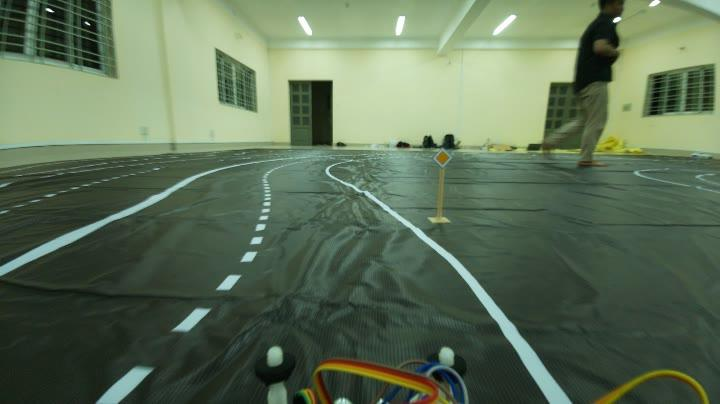priority: (430, 145, 458, 173)
